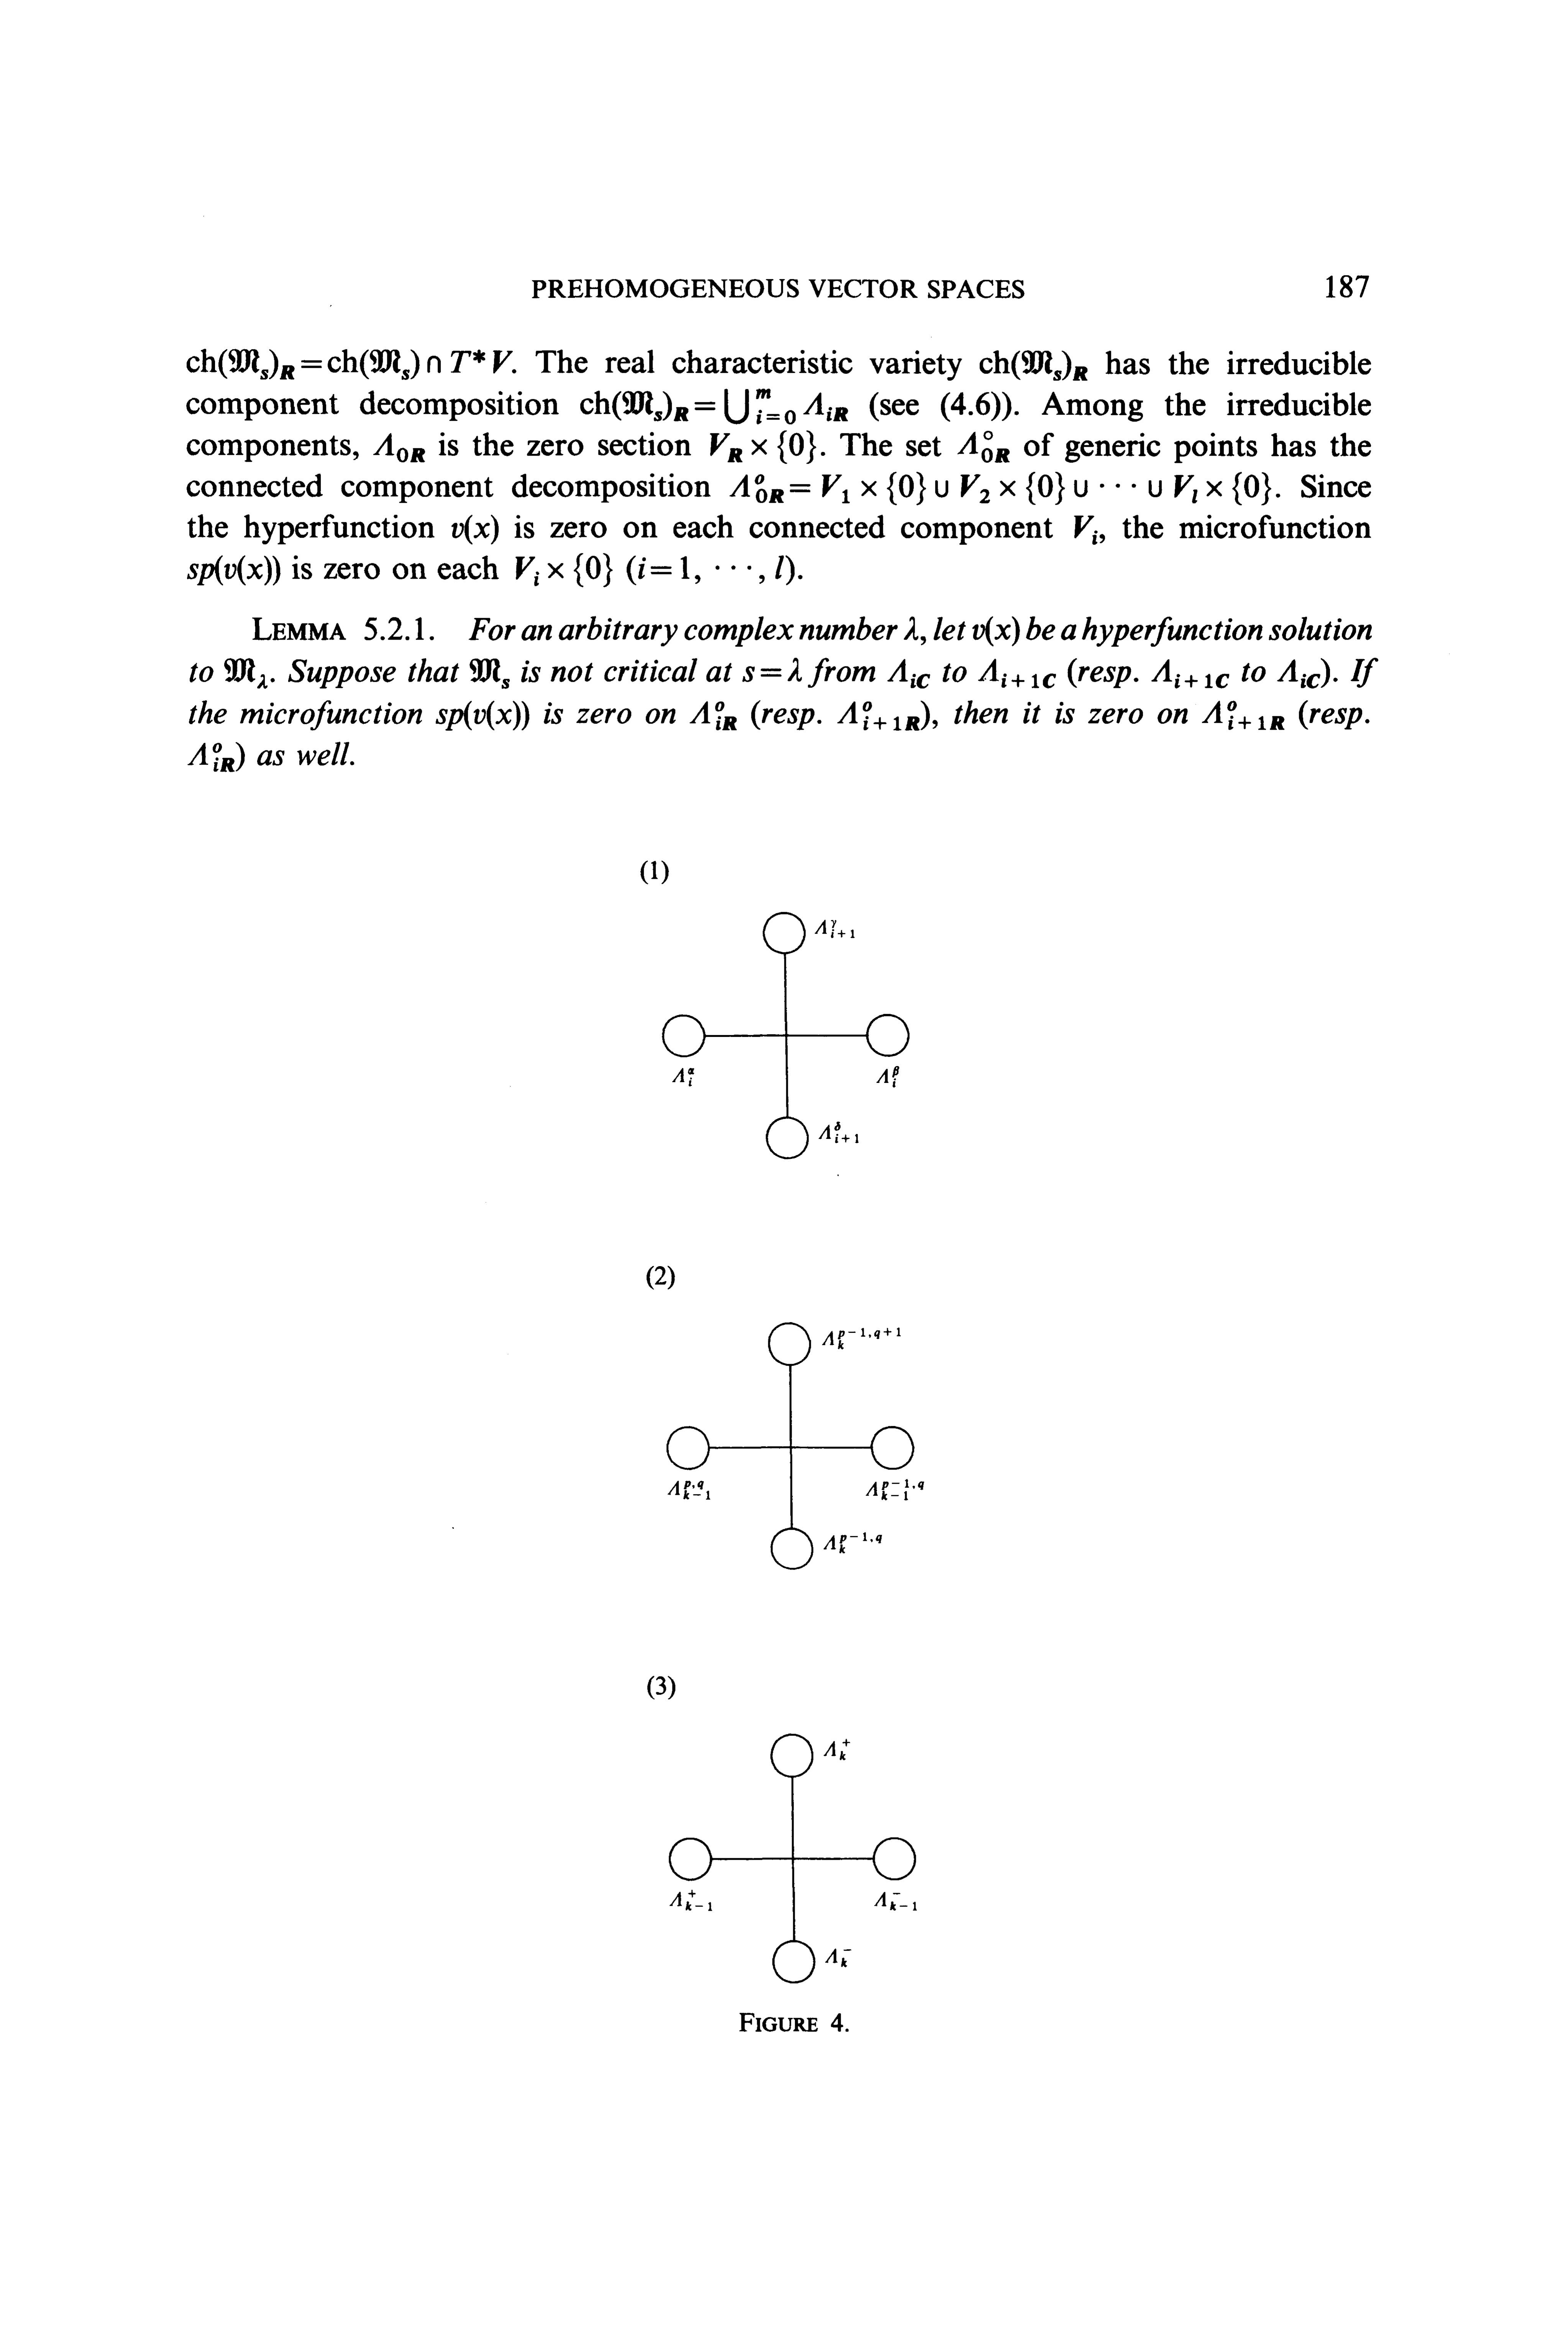maths: (730, 473, 1270, 504), (187, 348, 513, 380), (581, 389, 849, 424), (516, 553, 794, 586), (710, 431, 815, 464), (980, 350, 1087, 380), (187, 555, 280, 585), (436, 700, 528, 730), (934, 616, 1020, 646), (1202, 700, 1284, 730), (836, 702, 919, 730), (978, 658, 1055, 688), (1151, 660, 1228, 688), (957, 431, 1010, 462), (373, 432, 425, 462), (451, 515, 499, 544), (742, 658, 801, 681), (689, 702, 737, 730), (187, 744, 234, 772), (224, 658, 268, 688), (469, 658, 509, 688), (887, 660, 929, 688), (1277, 660, 1319, 688), (1074, 515, 1097, 544), (905, 616, 919, 641), (1333, 677, 1337, 681)
